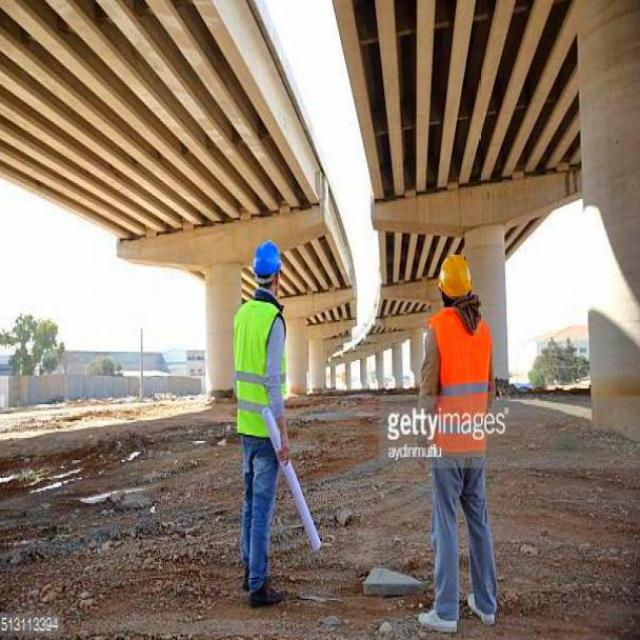helmet: (438, 245, 480, 314), (252, 232, 282, 294)
vest: (220, 290, 292, 436), (429, 302, 498, 446)
